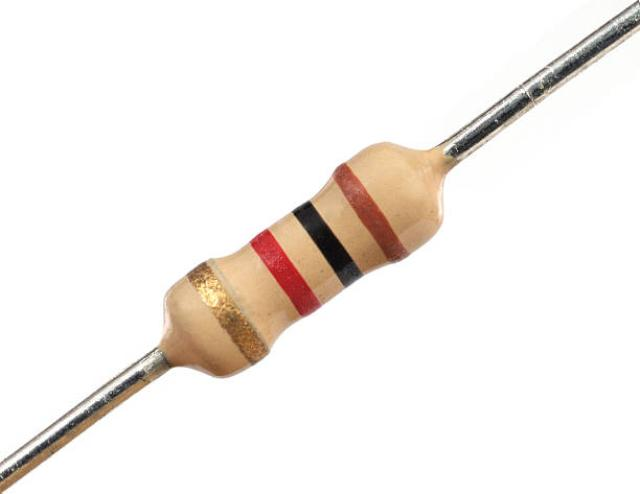black: (292, 200, 366, 288)
brown: (330, 163, 411, 265)
gold: (187, 262, 272, 367)
red: (248, 227, 323, 320)
resistor: (114, 86, 507, 420)
